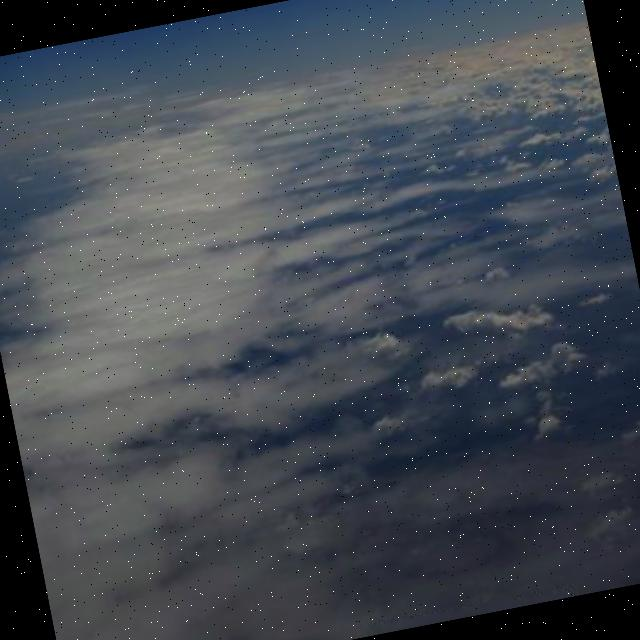Cu: (1, 10, 640, 572)
